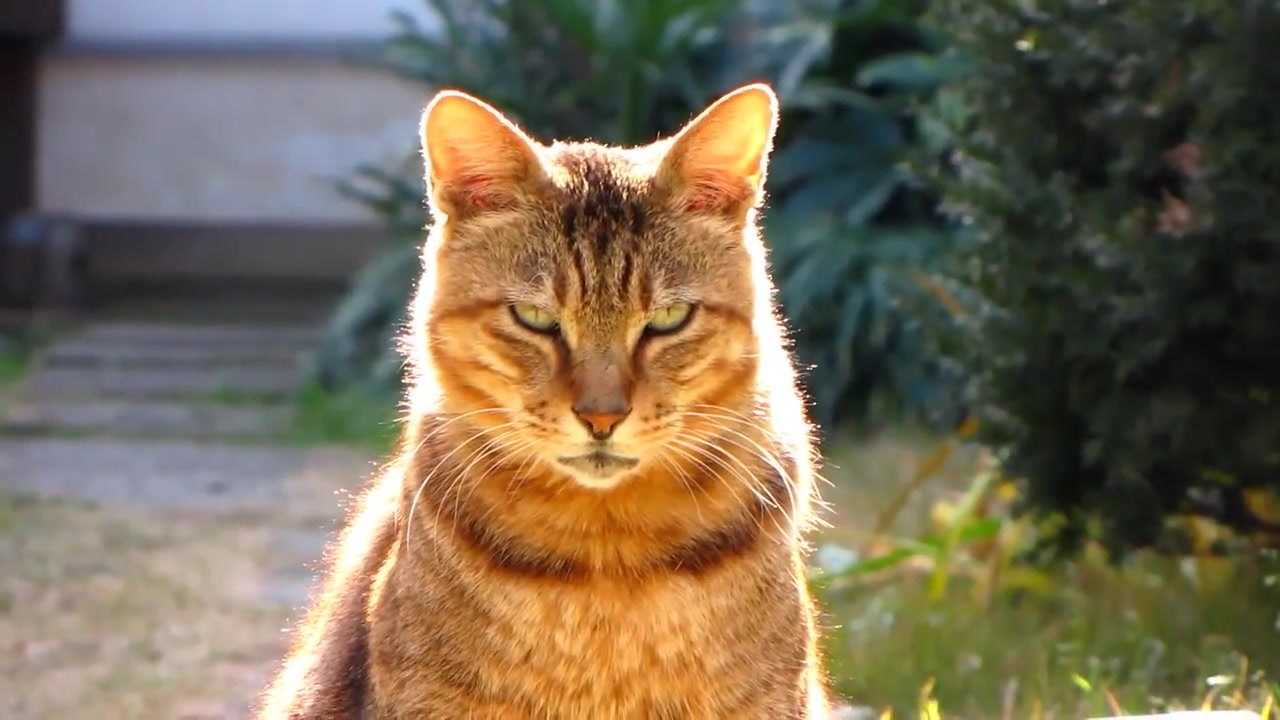cat: (252, 82, 848, 719)
